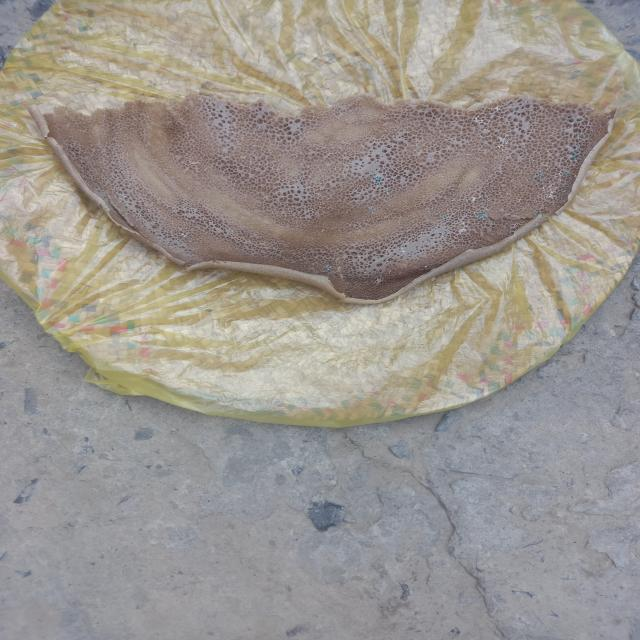injera_mold: (542, 184, 558, 200), (494, 134, 510, 150), (472, 114, 492, 124), (372, 276, 385, 286), (556, 169, 572, 176), (534, 170, 544, 180), (474, 211, 486, 219), (456, 227, 466, 235), (560, 183, 570, 190), (325, 263, 333, 271), (374, 176, 382, 184), (570, 154, 579, 160), (383, 188, 390, 194), (180, 233, 188, 238), (558, 195, 565, 200), (494, 106, 501, 111), (368, 206, 375, 211), (532, 212, 540, 216), (572, 145, 579, 149), (471, 197, 476, 201), (518, 198, 522, 203), (443, 217, 448, 220), (452, 198, 456, 201), (488, 108, 493, 110), (401, 250, 405, 252), (424, 266, 428, 268), (462, 222, 464, 224), (479, 196, 481, 198)
